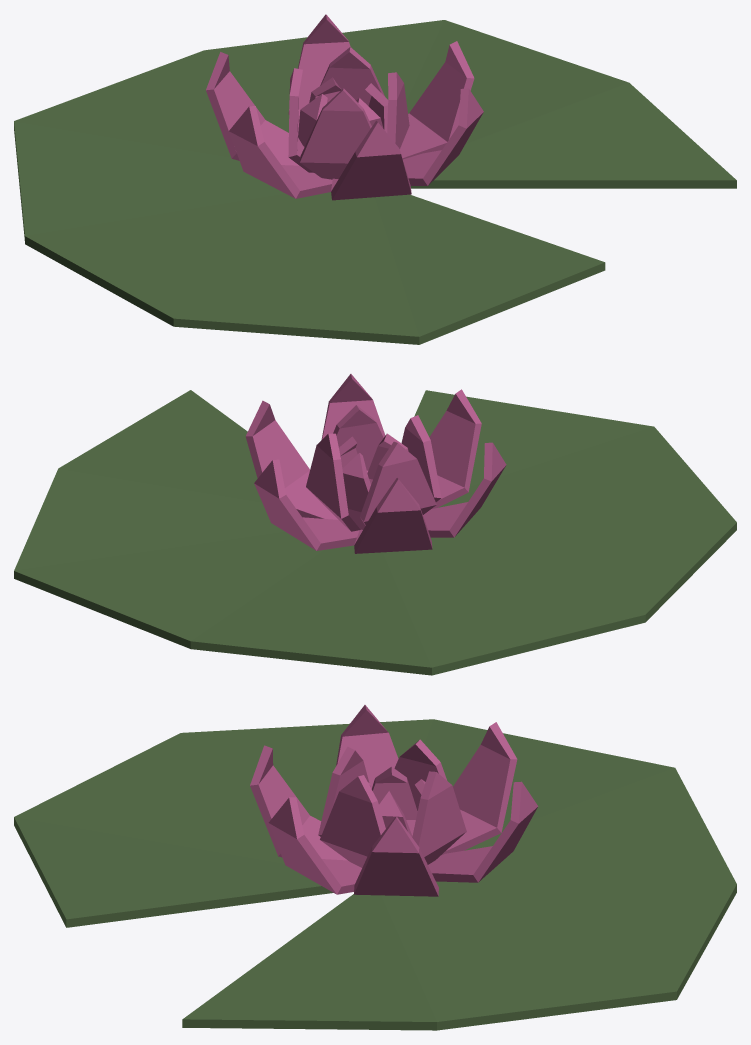
The model's file is lilypad.glb.
3 renders of one model, top to bottom at view 1: azimuth 30°, elevation 25°; view 2: azimuth 150°, elevation 25°; view 3: azimuth 270°, elevation 25°, orthographic. The views are drawn at different scales.
Visible parts, largest first — view 1: Lilypad; view 2: Lilypad; view 3: Lilypad.
Boxes of the visible parts, box(x1,y1,x2,y2) form: Lilypad: box(14, 14, 736, 344); Lilypad: box(14, 374, 736, 675); Lilypad: box(14, 705, 736, 1030).
Bounding box in the file's own units: 1.2 × 0.2209 × 1.19.
